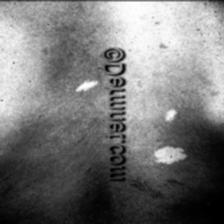Unclassified: (145, 96, 197, 166), (73, 78, 101, 90)
